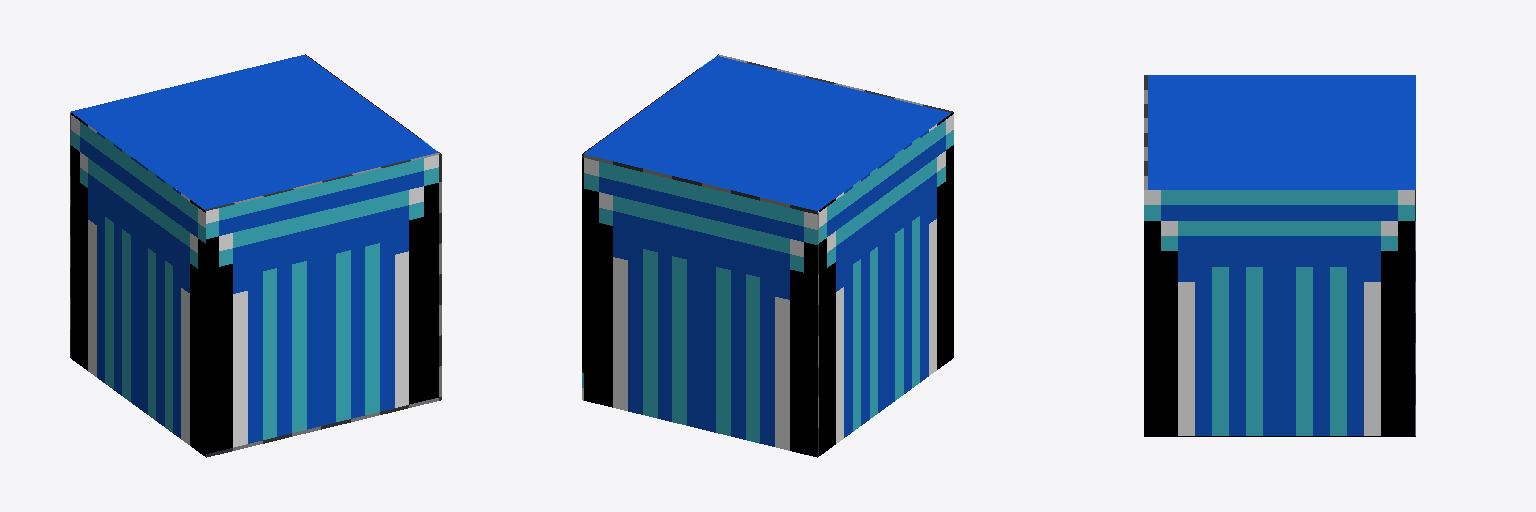
3 views of the same model, side by side, from view 1: azimuth 30°, elevation 25°; view 2: azimuth 150°, elevation 25°; view 3: azimuth 270°, elevation 25° (orthographic).
Visible parts, largest first — view 1: Cube; view 2: Cube; view 3: Cube.
Boxes of the visible parts, x1,y1,x2,y2 form: Cube: [70, 54, 441, 457]; Cube: [582, 54, 953, 457]; Cube: [1144, 75, 1415, 436].
Size of the model in its own units: 2 by 2 by 2.
Materials: 2 (1 with a texture image).